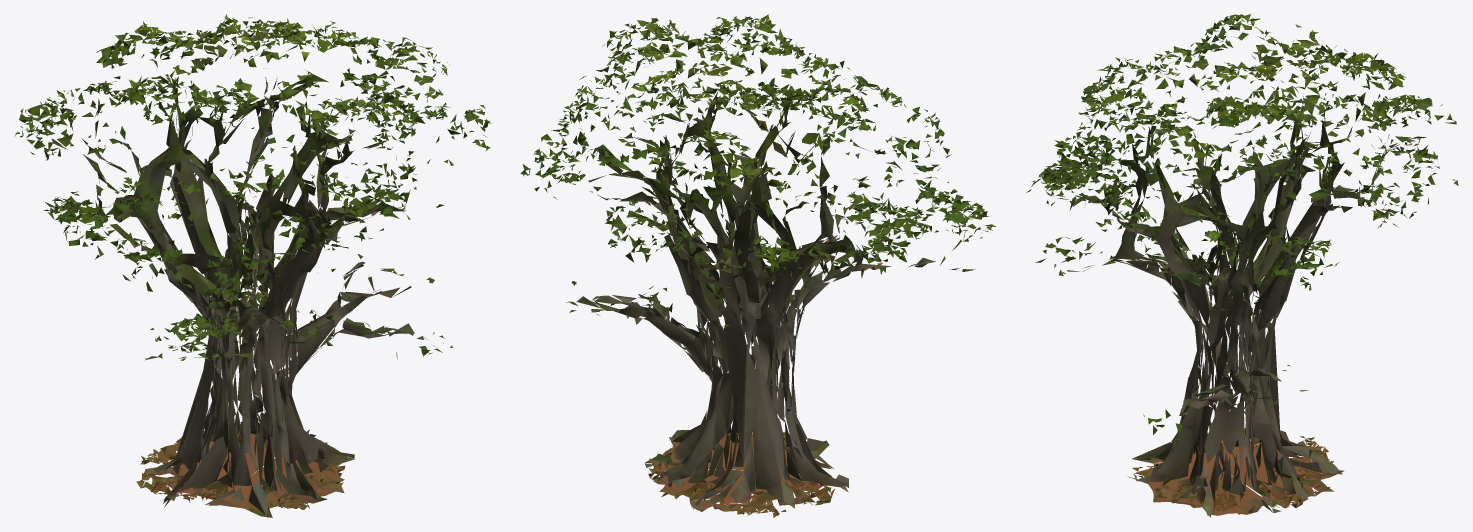
The model's file is broadleaf-b.glb.
3 renders of one model, left to right at view 1: azimuth 30°, elevation 25°; view 2: azimuth 150°, elevation 25°; view 3: azimuth 270°, elevation 25°, orthographic. The views are drawn at different scales.
Visible parts, largest first — view 1: Mesh_0; view 2: Mesh_0; view 3: Mesh_0.
Boxes of the visible parts, <box> form: Mesh_0: <box>15,14,490,517</box>; Mesh_0: <box>520,14,995,517</box>; Mesh_0: <box>1026,14,1458,517</box>.
Bounding box in the file's own units: 9.11 × 10.03 × 9.13.
1 material, 1 textured.
